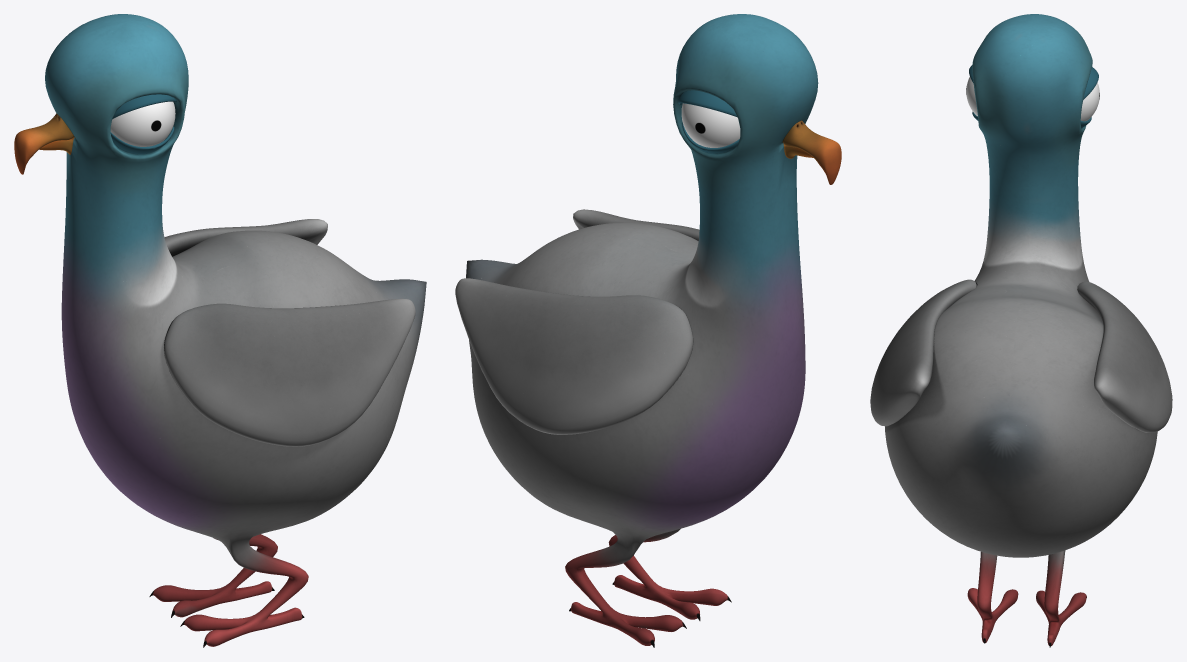
The picture shows the model from 3 angles, left to right: view 1: azimuth 30°, elevation 25°; view 2: azimuth 150°, elevation 25°; view 3: azimuth 270°, elevation 25°; orthographic projection. The views are drawn at different scales.
Visible parts, largest first — view 1: PRIG01_0047:Percy_Mesh, PRIG01_0047:Percy_Mesh.001, PRIG01_0047:L_Eye.002, PRIG01_0047:Percy_Mesh.002, PRIG01_0047:R_Eye_LidB.004; view 2: PRIG01_0047:Percy_Mesh, PRIG01_0047:Percy_Mesh.001, PRIG01_0047:L_Eye.002, PRIG01_0047:Percy_Mesh.002, PRIG01_0047:R_Eye_LidB.004; view 3: PRIG01_0047:Percy_Mesh, PRIG01_0047:Percy_Mesh.001, PRIG01_0047:L_Eye.002.
Boxes of the visible parts, bbox=[...] form: PRIG01_0047:Percy_Mesh: bbox=[39, 14, 426, 647]; PRIG01_0047:Percy_Mesh.001: bbox=[164, 219, 415, 446]; PRIG01_0047:L_Eye.002: bbox=[110, 101, 175, 146]; PRIG01_0047:Percy_Mesh.002: bbox=[14, 113, 73, 174]; PRIG01_0047:R_Eye_LidB.004: bbox=[110, 94, 176, 154]; PRIG01_0047:Percy_Mesh: bbox=[466, 14, 818, 647]; PRIG01_0047:Percy_Mesh.001: bbox=[455, 209, 699, 434]; PRIG01_0047:L_Eye.002: bbox=[681, 103, 740, 147]; PRIG01_0047:Percy_Mesh.002: bbox=[782, 120, 841, 184]; PRIG01_0047:R_Eye_LidB.004: bbox=[678, 90, 739, 153]; PRIG01_0047:Percy_Mesh: bbox=[885, 14, 1157, 647]; PRIG01_0047:Percy_Mesh.001: bbox=[870, 279, 1172, 432]; PRIG01_0047:L_Eye.002: bbox=[966, 77, 1099, 121].
Size of the model in its own units: 5.58 by 8.46 by 4.18.
Materials: 6 (4 with a texture image).
